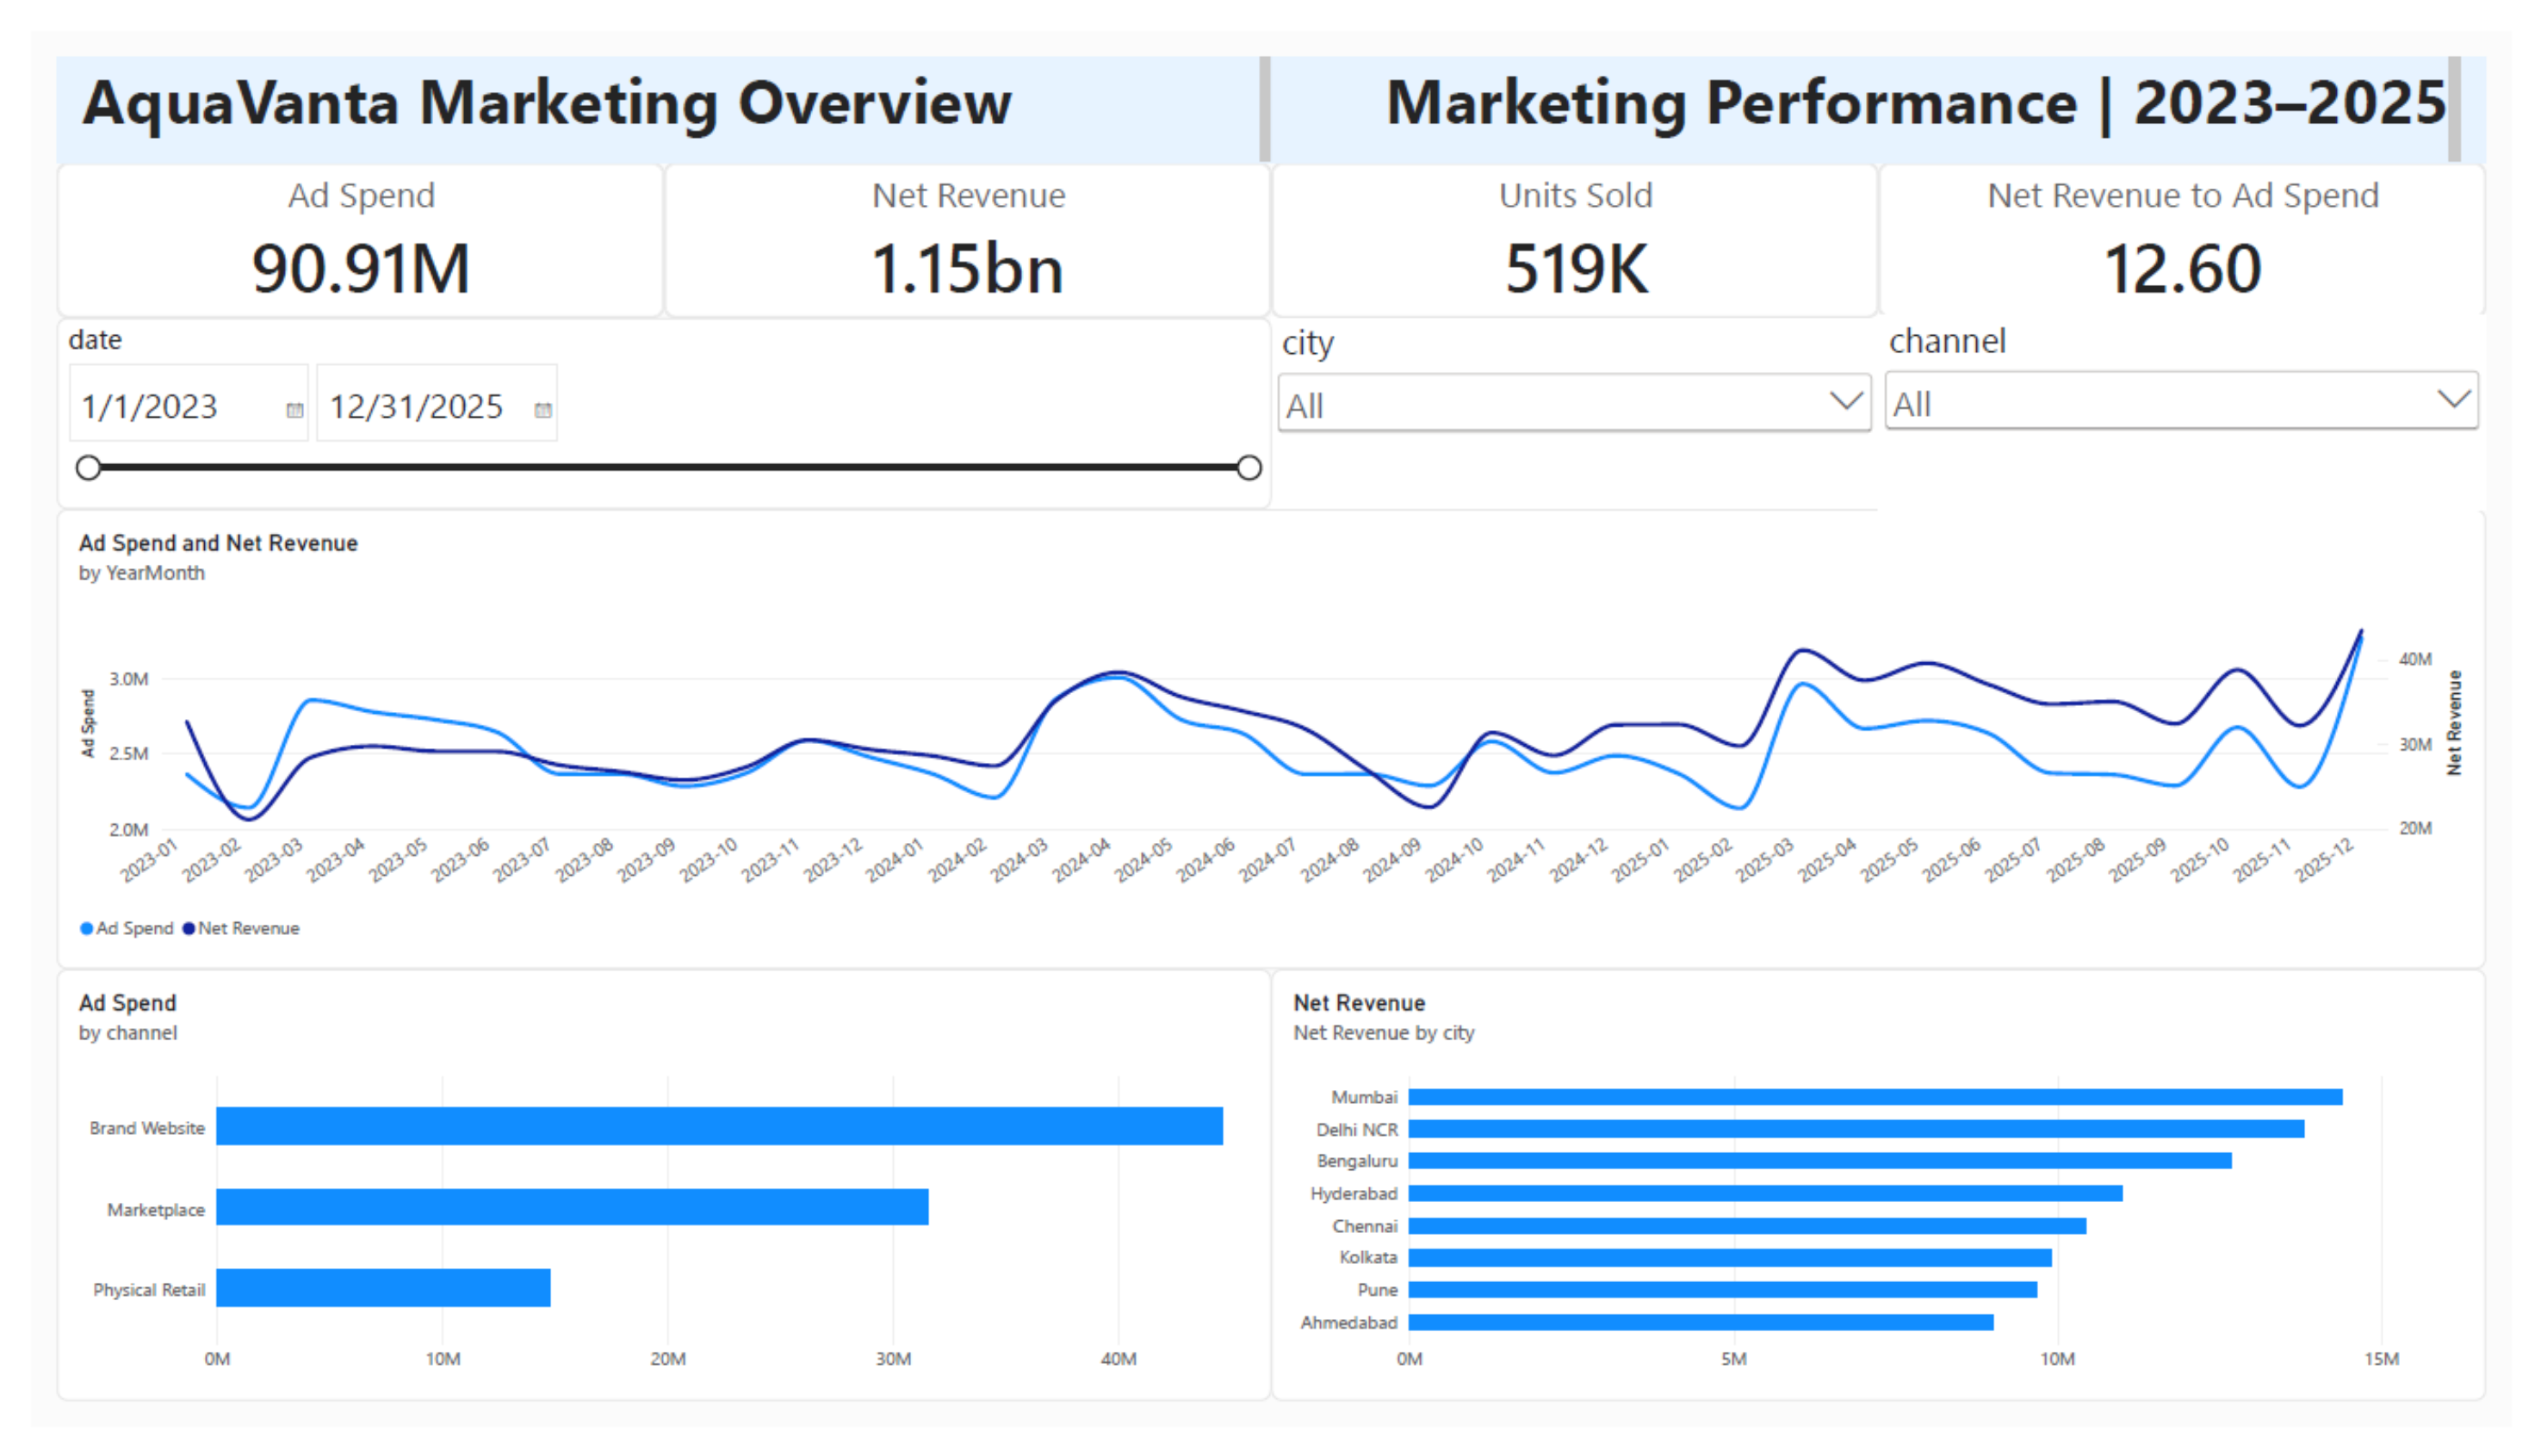

What the dashboard file says about the page in this screenshot:
{"tool":"powerbi","page":{"name":"Overview","canvas":[1920,1080],"ordinal":0},"visuals":[{"type":"cardVisual","fields":{"Data":["FactPerformance.Ad Spend"]},"box":[20,102,470,120],"z":1000},{"type":"slicer","fields":{"Values":["DimCity.city"]},"box":[960,222,470,148],"z":2000},{"type":"cardVisual","fields":{"Data":["FactPerformance.Revenue to Ad Spend"]},"box":[1430,102,470,120],"z":3000},{"type":"cardVisual","fields":{"Data":["FactPerformance.Net Revenue"]},"box":[490,102,470,120],"z":4000},{"type":"cardVisual","fields":{"Data":["FactPerformance.Units Sold"]},"box":[960,102,470,120],"z":5000},{"type":"lineChart","fields":{"Category":["DimDate.YearMonth"],"Y":["FactPerformance.Ad Spend"],"Y2":["FactPerformance.Net Revenue"]},"box":[20,370,1880,356],"z":6000},{"type":"barChart","fields":{"Category":["DimChannel.channel"],"Y":["FactPerformance.Ad Spend"]},"box":[20,726,940,334],"z":7000},{"type":"barChart","title":"Net Revenue","fields":{"Category":["DimCity.city"],"Y":["FactPerformance.Ad Spend"]},"box":[960,726,940,334],"z":8000},{"type":"slicer","fields":{"Values":["DimChannel.channel"]},"box":[1430,220,470,150],"z":9000},{"type":"slicer","fields":{"Values":["DimDate.date"]},"box":[20,222,940,148],"z":10000},{"type":"textbox","box":[20,20,940,82],"z":11000},{"type":"textbox","box":[960,20,940,82],"z":12000}]}

Visuals, with their boxes in screenshot pixels (x1, y1, x2, y2), scaled from the page's 1920x1080 canvas onto the 2541x1456 screenshot:
cardVisual - FactPerformance.Ad Spend: select_region(27, 138, 648, 300)
slicer - DimCity.city: select_region(1271, 300, 1893, 499)
cardVisual - FactPerformance.Revenue to Ad Spend: select_region(1893, 138, 2514, 300)
cardVisual - FactPerformance.Net Revenue: select_region(648, 138, 1271, 300)
cardVisual - FactPerformance.Units Sold: select_region(1271, 138, 1893, 300)
lineChart - DimDate.YearMonth x FactPerformance.Ad Spend: select_region(27, 499, 2514, 979)
barChart - DimChannel.channel x FactPerformance.Ad Spend: select_region(27, 979, 1271, 1429)
"Net Revenue" barChart: select_region(1271, 979, 2514, 1429)
slicer - DimChannel.channel: select_region(1893, 296, 2514, 499)
slicer - DimDate.date: select_region(27, 300, 1271, 499)
textbox: select_region(27, 27, 1271, 138)
textbox: select_region(1271, 27, 2514, 138)
